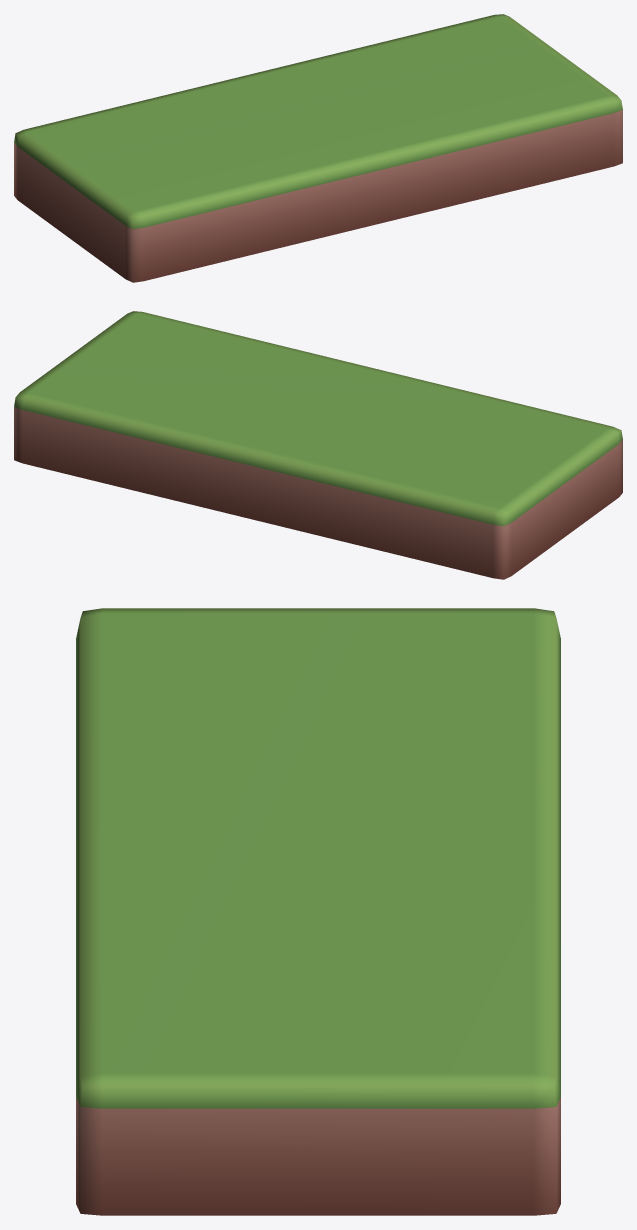
The model's file is Forest_RectangleBig.fbx.
3 renders of one model, top to bottom at view 1: azimuth 30°, elevation 25°; view 2: azimuth 150°, elevation 25°; view 3: azimuth 270°, elevation 25°, orthographic. The views are drawn at different scales.
Parts seen in each view (by area): view 1: Plane.059; view 2: Plane.059; view 3: Plane.059.
Boxes of the visible parts, left/top/right/bottom form: Plane.059: left=14, top=14, right=622, bottom=282; Plane.059: left=14, top=311, right=622, bottom=579; Plane.059: left=76, top=608, right=560, bottom=1215.
Bounding box in the file's own units: 458 × 58.15 × 194.
